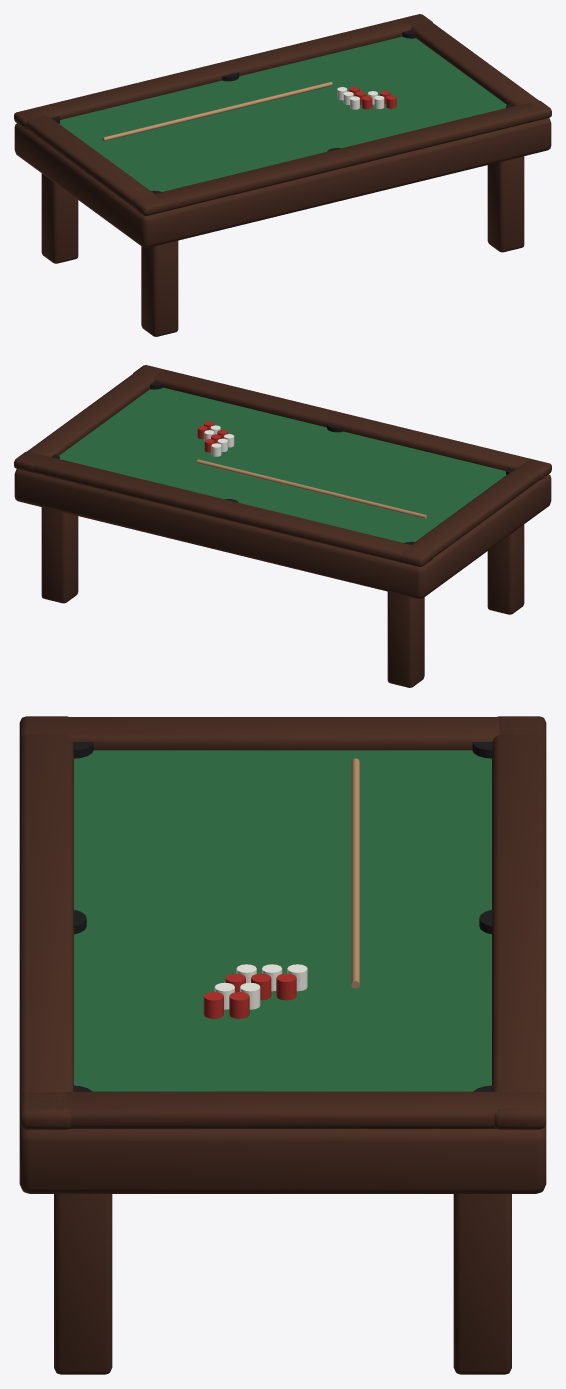
Rendered from fur_pool_table.glb.
The picture shows the model from 3 angles, top to bottom: view 1: azimuth 30°, elevation 25°; view 2: azimuth 150°, elevation 25°; view 3: azimuth 270°, elevation 25°; orthographic projection. The views are drawn at different scales.
Visible parts, largest first — view 1: FUR_pool_table; view 2: FUR_pool_table; view 3: FUR_pool_table.
Boxes of the visible parts, box(x1,y1,x2,y2) form: FUR_pool_table: box(14, 14, 551, 336); FUR_pool_table: box(14, 365, 551, 687); FUR_pool_table: box(19, 716, 546, 1374).
Size of the model in its own units: 2.6 by 0.8779 by 1.45.
Materials: 1 (1 with a texture image).
